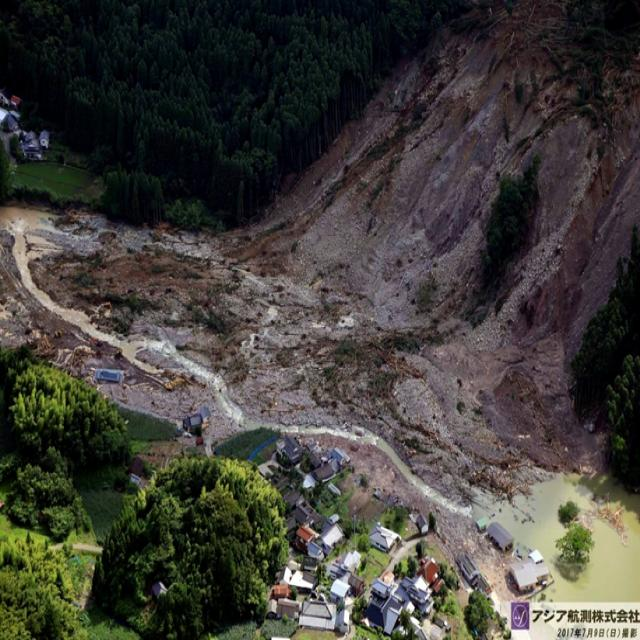Debris-flow: (0, 30, 640, 580)
